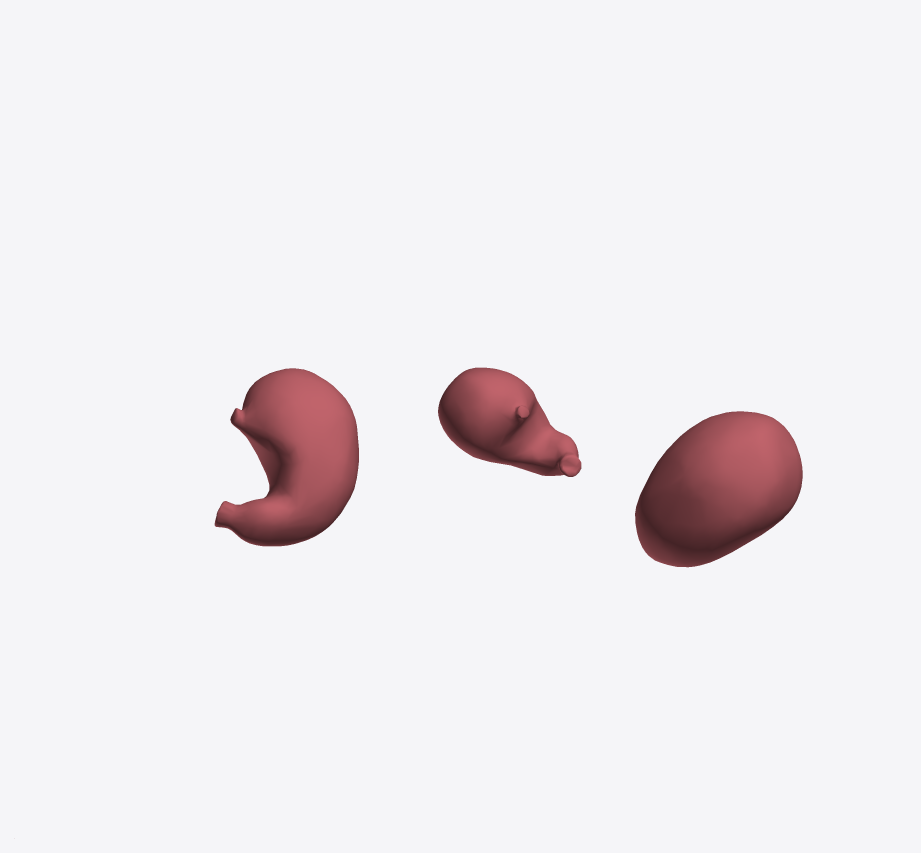
The model's file is oshqozon.glb.
3 views of the same model, side by side, from view 1: azimuth 30°, elevation 25°; view 2: azimuth 150°, elevation 25°; view 3: azimuth 270°, elevation 25° (orthographic). The views are drawn at different scales.
Visible parts, largest first — view 1: oshqozon; view 2: oshqozon; view 3: oshqozon.
Boxes of the visible parts, x1,y1,x2,y2 form: oshqozon: (214, 368, 358, 546); oshqozon: (438, 367, 581, 476); oshqozon: (635, 411, 802, 567).
Size of the model in its own units: 0.2441 by 0.7272 by 0.191.
